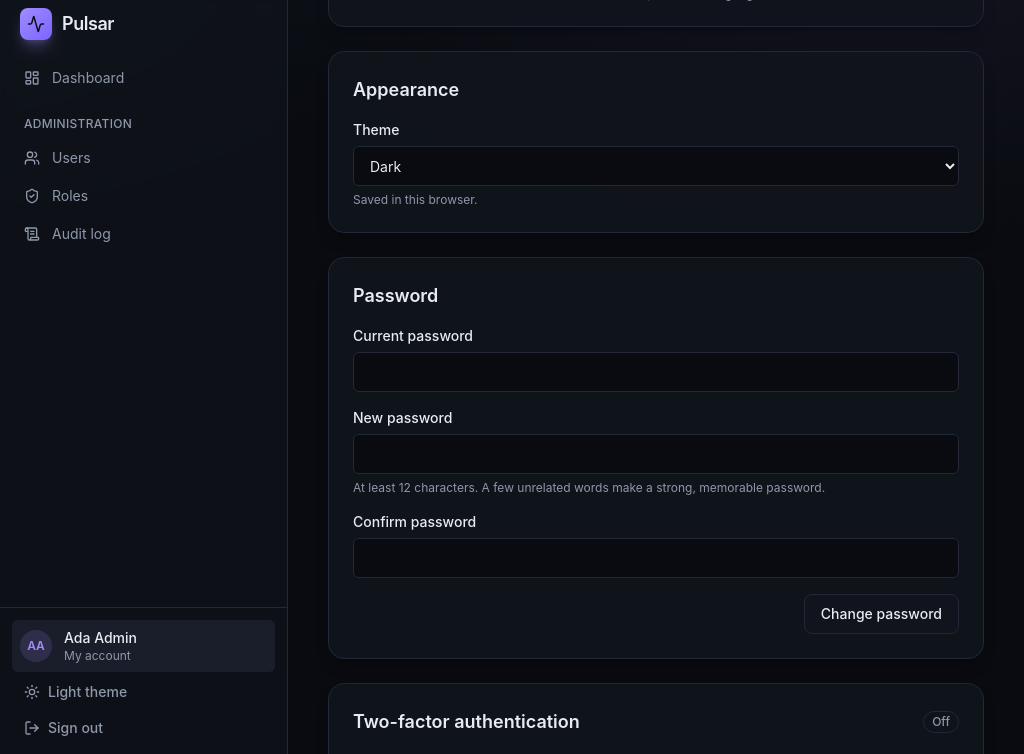
Test case: account › shows a translated error for a wrong current password
(page scrolled)
In the password field labelled "Current password": (656, 372) [353,352,959,392], type "not it"
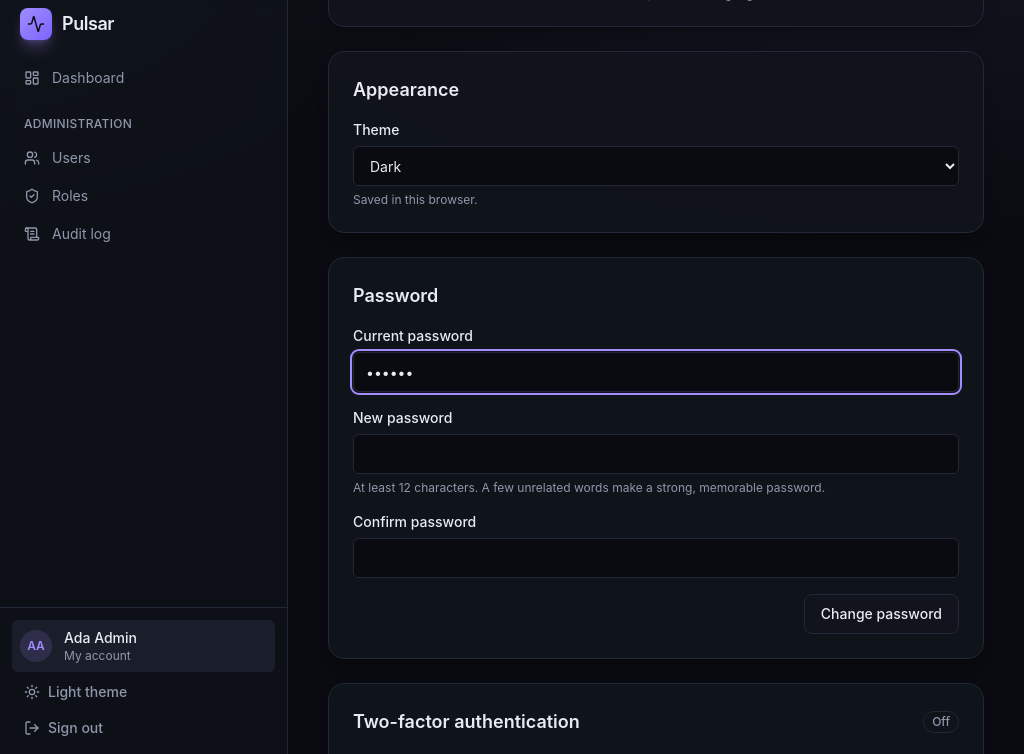
In the password field labelled "New password": (656, 454) [353,434,959,474], type "a brand new password"
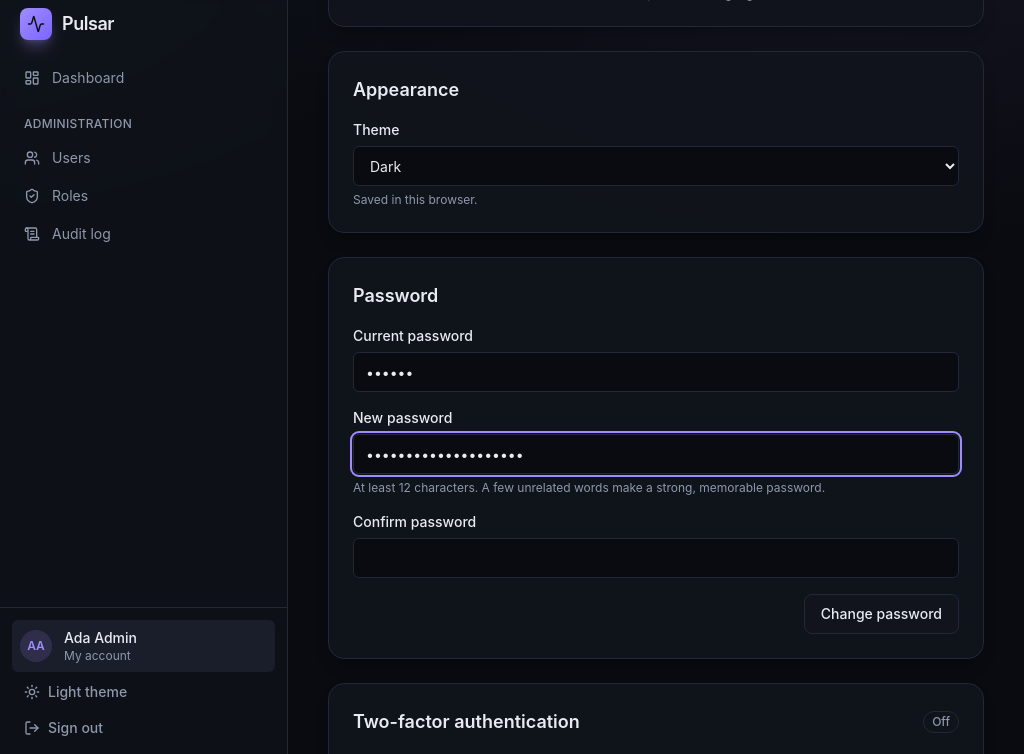
In the password field labelled "Confirm password": (656, 558) [353,538,959,578], type "a brand new password"
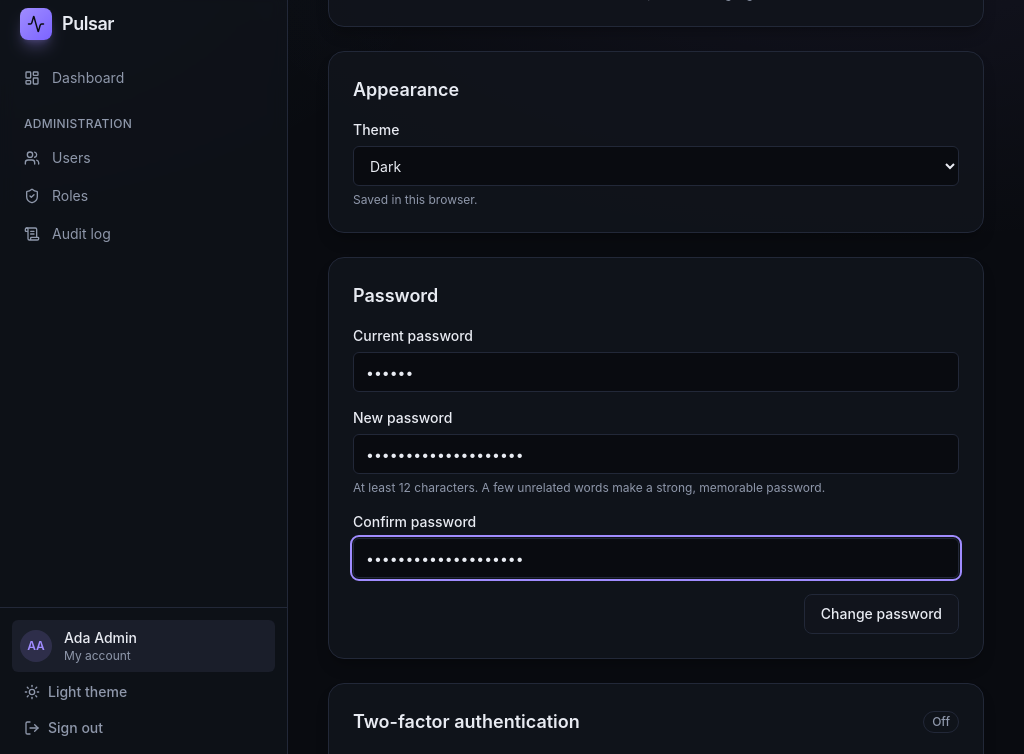
Click the button "Change password": (881, 614) [804,594,959,634]
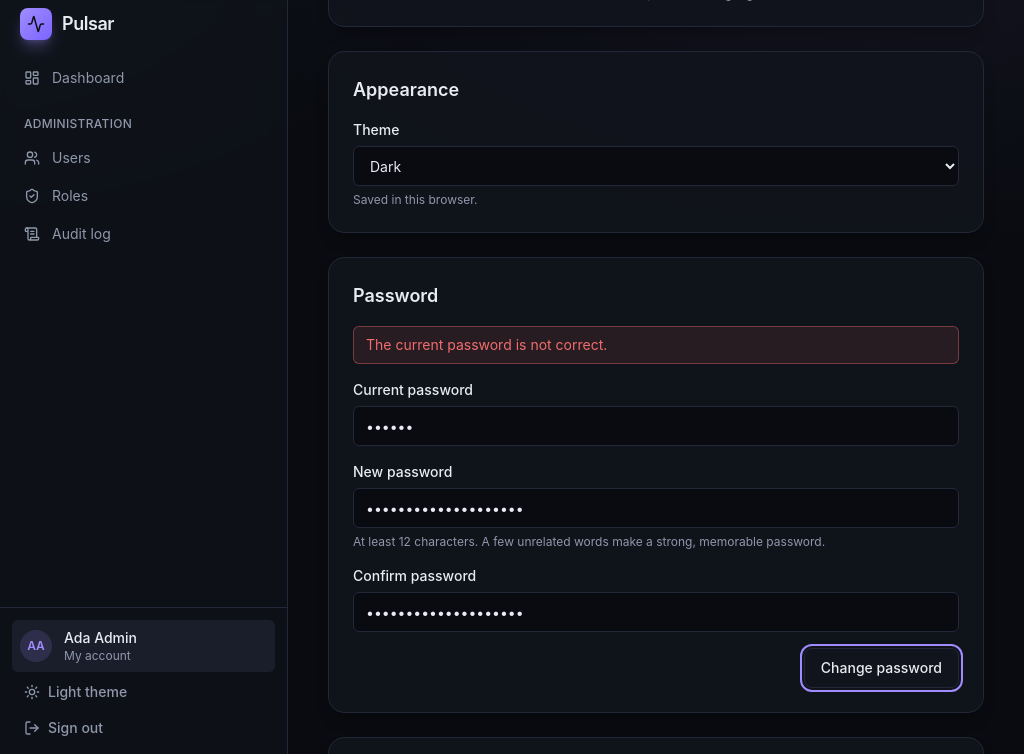
expect the message reads "The current password is not correct.": met, box [366,336,607,353]
